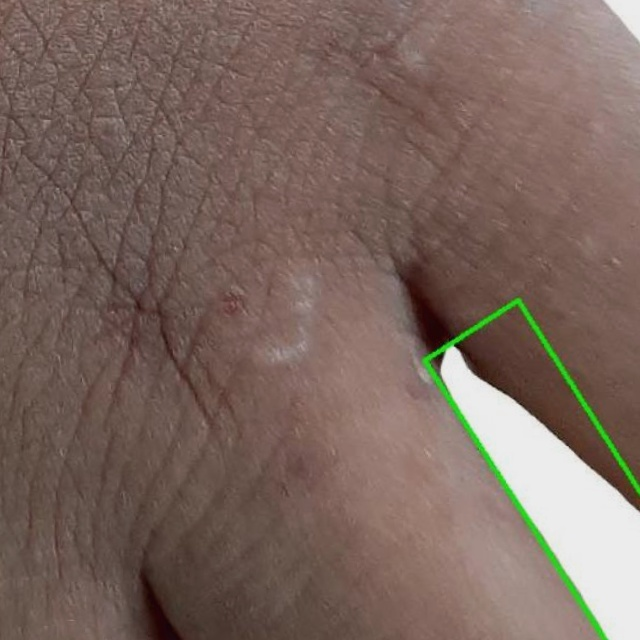Scabies: (418, 300, 639, 639)
